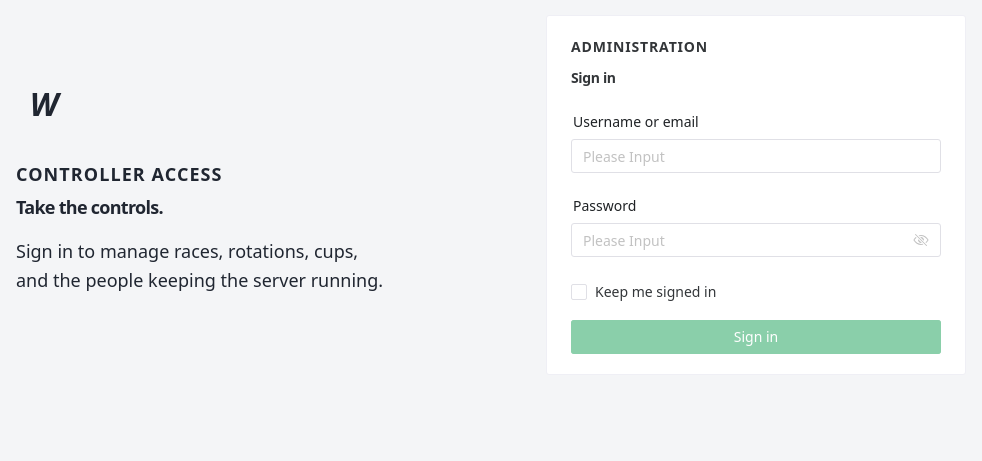
Test: LoginView › shows locked feedback after a failed sign-in
Type "admin" into the field named "login". click: (756, 156)
box: [583,139,929,173]
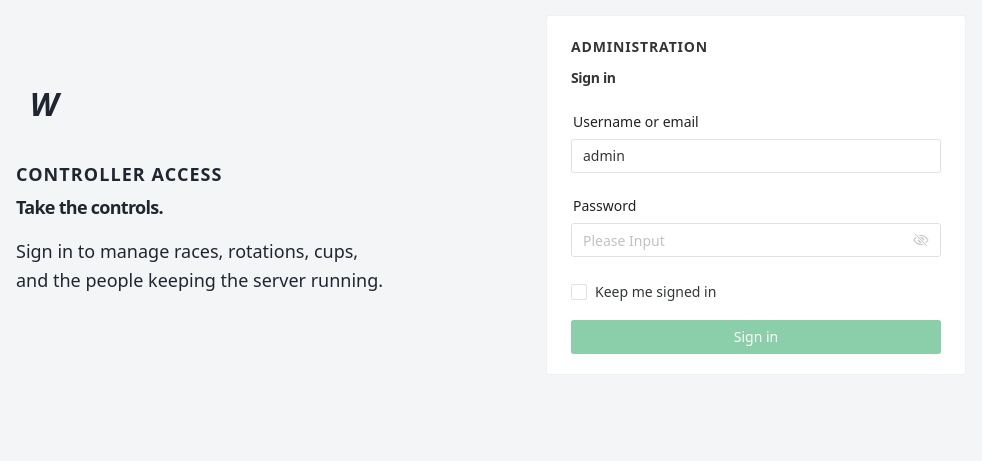
Type "secret" into the password field named "password". click: (746, 240)
box: [583,223,909,257]
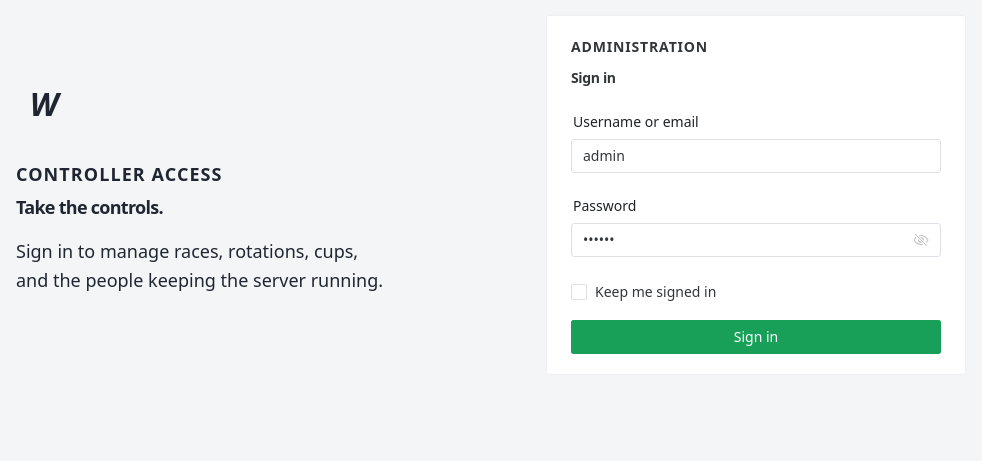
Submit the form, box [571,113,941,354]
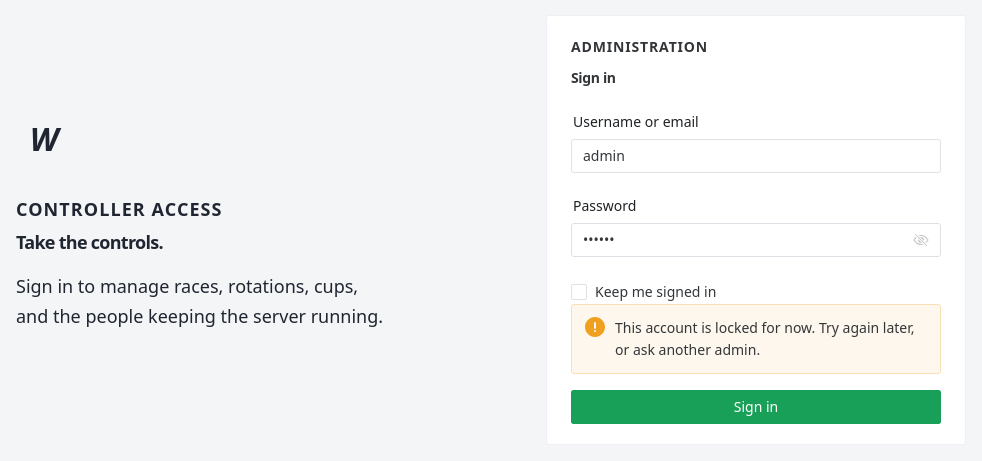
Check: the text "This account is locked for now." is shown, box [615,318,914,359]
